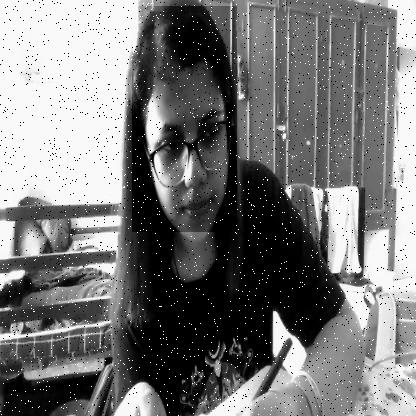Normal: (132, 6, 237, 232)
